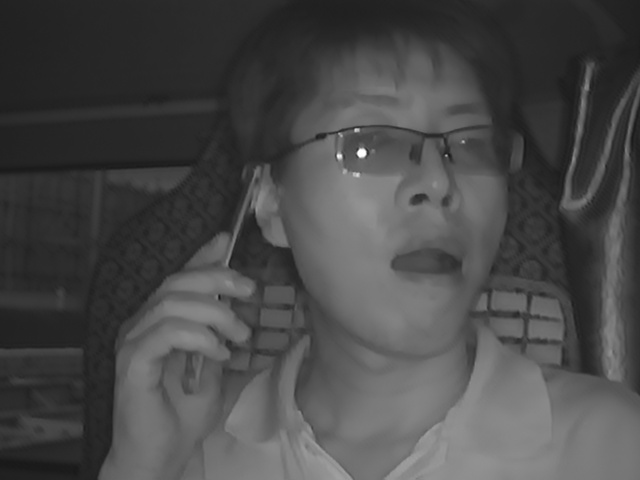hand: (114, 233, 248, 448)
